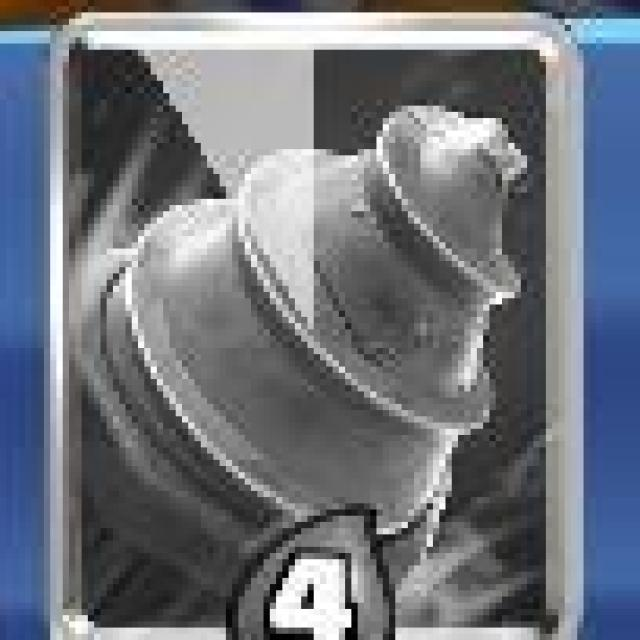Goblin_Drill: (57, 13, 579, 640)
